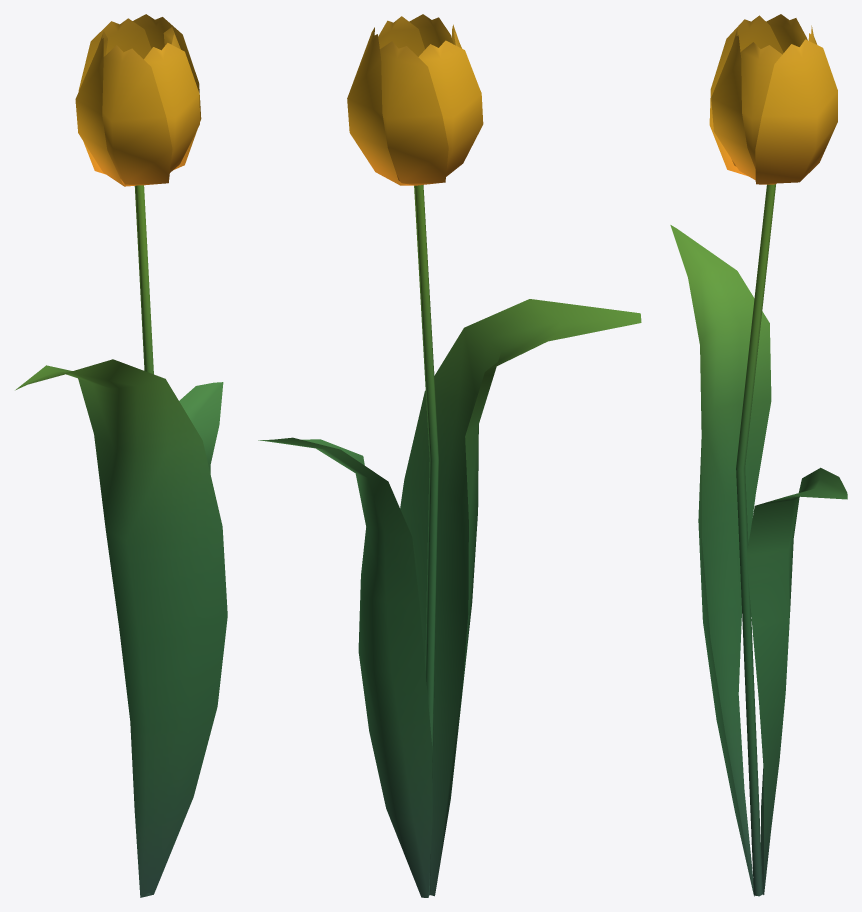
File: Flower_020.fbx
3 views of the same model, side by side, from view 1: azimuth 30°, elevation 25°; view 2: azimuth 150°, elevation 25°; view 3: azimuth 270°, elevation 25° (orthographic).
Parts seen in each view (by area): view 1: Flower.020; view 2: Flower.020; view 3: Flower.020.
Part boxes in pixels (x1=…): Flower.020: x1=15, y1=14, x2=227, y2=897; Flower.020: x1=258, y1=14, x2=641, y2=897; Flower.020: x1=670, y1=14, x2=847, y2=896.
Bounding box in the file's own units: 0.8134 × 2.27 × 0.4215.
